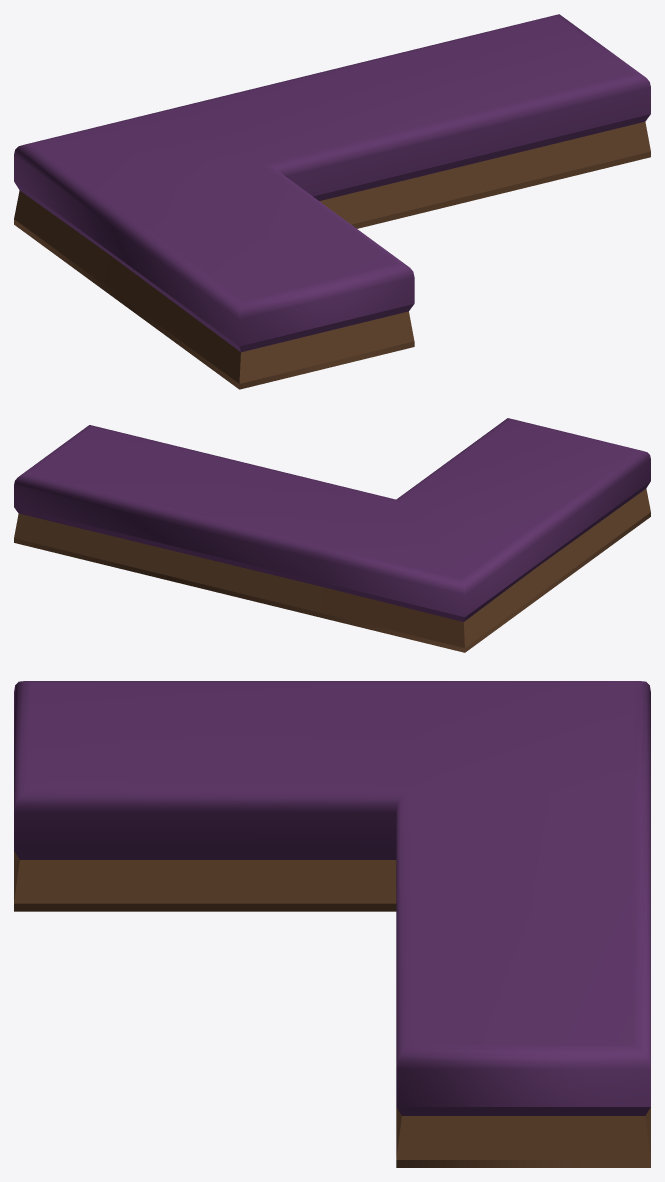
The model's file is ME_SE_LoungeSofaCorner.fbx.
3 renders of one model, top to bottom at view 1: azimuth 30°, elevation 25°; view 2: azimuth 150°, elevation 25°; view 3: azimuth 270°, elevation 25°, orthographic. The views are drawn at different scales.
Visible parts, largest first — view 1: ME_SE_LoungeSofaCorner; view 2: ME_SE_LoungeSofaCorner; view 3: ME_SE_LoungeSofaCorner.
Boxes of the visible parts, x1,y1,x2,y2 form: ME_SE_LoungeSofaCorner: (14, 14, 650, 389); ME_SE_LoungeSofaCorner: (14, 418, 650, 652); ME_SE_LoungeSofaCorner: (14, 681, 650, 1167).
Bounding box in the file's own units: 28000 × 4000 × 20000.
